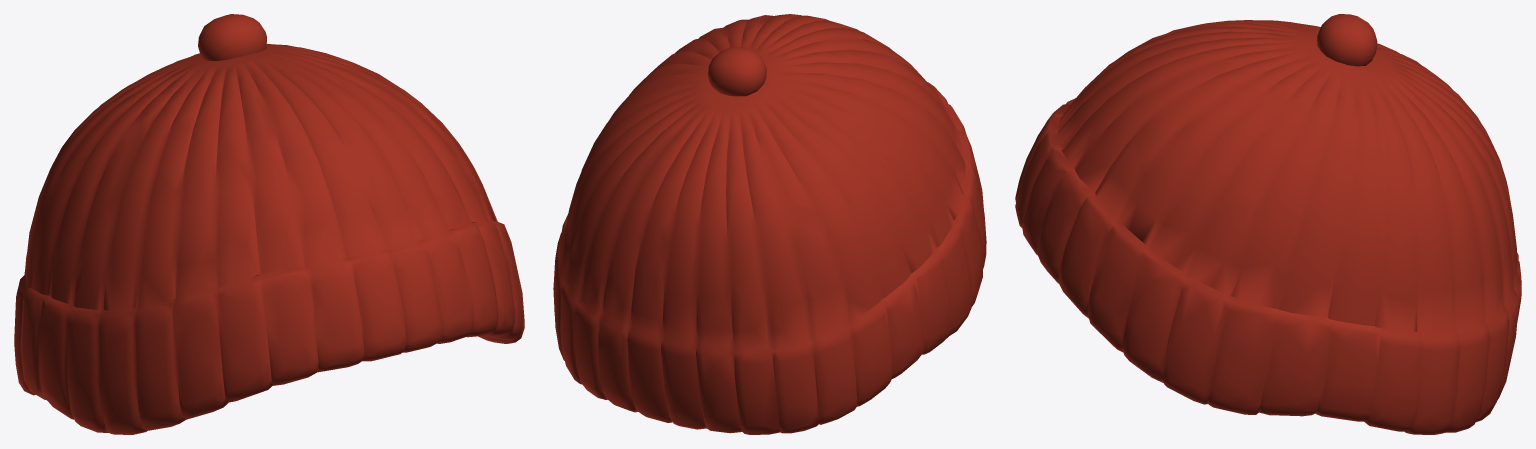
The model's file is headwear-beanie-red-d947d4af.glb.
3 renders of one model, left to right at view 1: azimuth 30°, elevation 25°; view 2: azimuth 150°, elevation 25°; view 3: azimuth 270°, elevation 25°, orthographic. The views are drawn at different scales.
Parts seen in each view (by area): view 1: Geo_White_Older_Female_Beanie_Red.001; view 2: Geo_White_Older_Female_Beanie_Red.001; view 3: Geo_White_Older_Female_Beanie_Red.001.
Part boxes in pixels (<box>): Geo_White_Older_Female_Beanie_Red.001: <box>14,14,524,434</box>; Geo_White_Older_Female_Beanie_Red.001: <box>553,14,986,434</box>; Geo_White_Older_Female_Beanie_Red.001: <box>1015,14,1521,434</box>.
Size of the model in its own units: 1.58 by 1.39 by 1.75.
